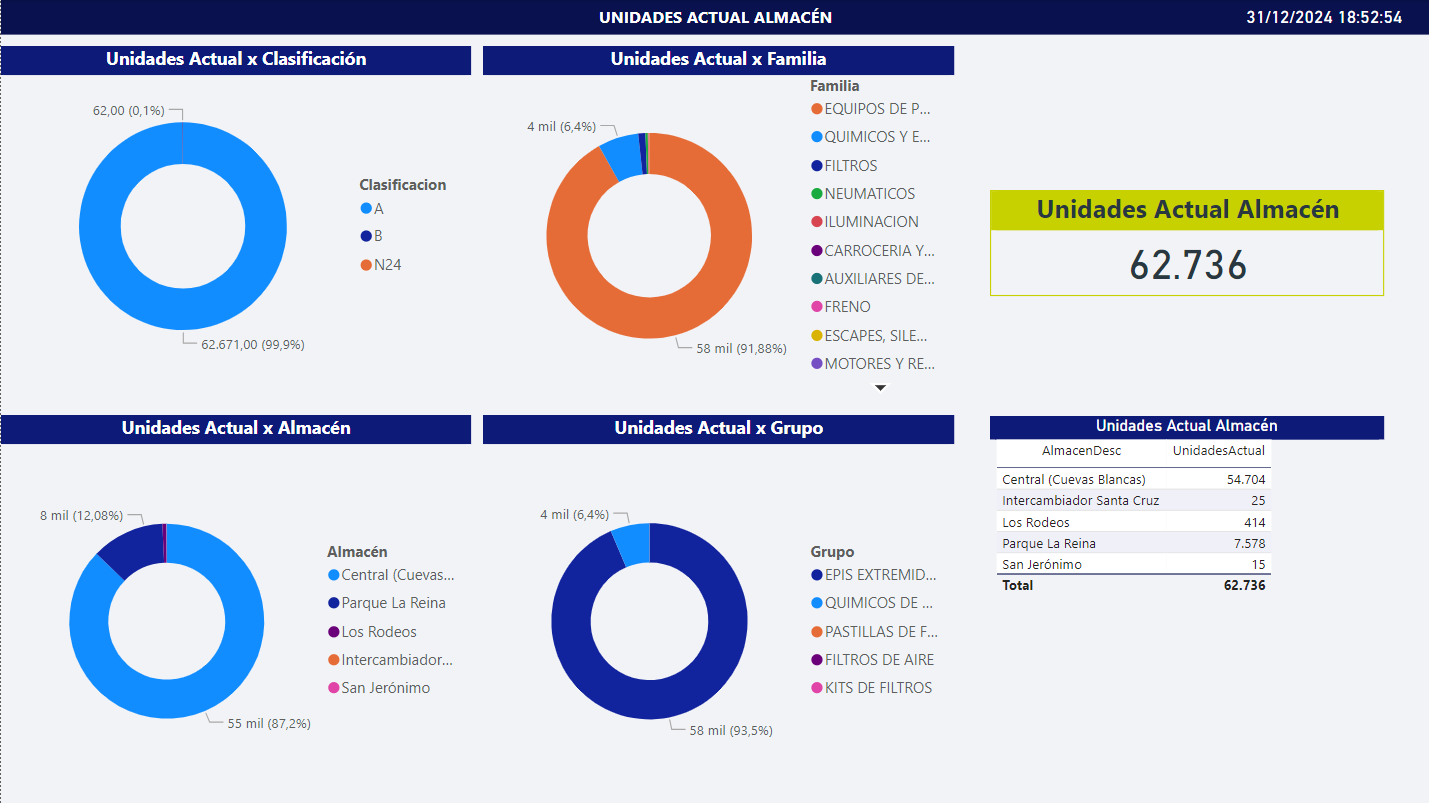

Layout of this report page (visuals, bound fields, positions):
{"tool":"powerbi","page":{"name":"C. Unidades Actual Almacen","canvas":[1280,720],"ordinal":2},"visuals":[{"type":"card","fields":{"Values":["Min(Actualizacion.Last Refresh Date Time)"]},"box":[1006.6,0,273.4,31.1],"z":0},{"type":"card","title":"Unidades  Actual Almacén","fields":{"Values":["Sum(movimientos_almacenes.UnidadesActual)"]},"box":[885.8,170.2,352.6,94.5],"z":4000},{"type":"textbox","box":[0,0,1280,31.1],"z":5000},{"type":"card","fields":{"Values":["Min(Actualizacion.Last Refresh Date Time)"]},"box":[1089.4,0,190.6,31.4],"z":7000},{"type":"donutChart","title":"Unidades Actual x Almacén","fields":{"Y":["Sum(movimientos_almacenes.UnidadesActual)"],"Category":["movimientos_almacenes.AlmacenDesc"]},"box":[0,371.6,420.9,348.4],"z":9000},{"type":"donutChart","title":"Unidades Actual x Grupo","fields":{"Y":["Sum(movimientos_almacenes.UnidadesActual)"],"Category":["movimientos_almacenes.GrupoDesc"]},"box":[431.4,372,422.2,348.4],"z":10000},{"type":"tableEx","title":"Unidades Actual Almacén","fields":{"Values":["movimientos_almacenes.AlmacenDesc","Sum(movimientos_almacenes.UnidadesActual)"]},"box":[885.8,372.5,352.6,175.8],"z":11000},{"type":"donutChart","title":"Unidades Actual x Clasificación","fields":{"Y":["Sum(movimientos_almacenes.UnidadesActual)"],"Category":["movimientos_almacenes.Clasificacion"]},"box":[0,41.2,420.9,301.8],"z":16000},{"type":"donutChart","title":"Unidades Actual x Familia","fields":{"Category":["movimientos_almacenes.FamiliaDesc"],"Y":["Sum(movimientos_almacenes.UnidadesActual)"]},"box":[431.6,41.2,421.8,318.8],"z":17000}]}

Visuals, with their boxes in screenshot pixels (x1, y1, x2, y2), scaled from the page's 1280x720 canvas onto the 1429x803 screenshot:
card - Min(Actualizacion.Last Refresh Date Time): 1124:0:1428:35
"Unidades  Actual Almacén" card: 989:190:1383:295
textbox: 0:0:1428:35
card - Min(Actualizacion.Last Refresh Date Time): 1216:0:1428:35
"Unidades Actual x Almacén" donutChart: 0:414:470:802
"Unidades Actual x Grupo" donutChart: 482:415:953:802
"Unidades Actual Almacén" tableEx: 989:415:1383:612
"Unidades Actual x Clasificación" donutChart: 0:46:470:383
"Unidades Actual x Familia" donutChart: 482:46:953:402
